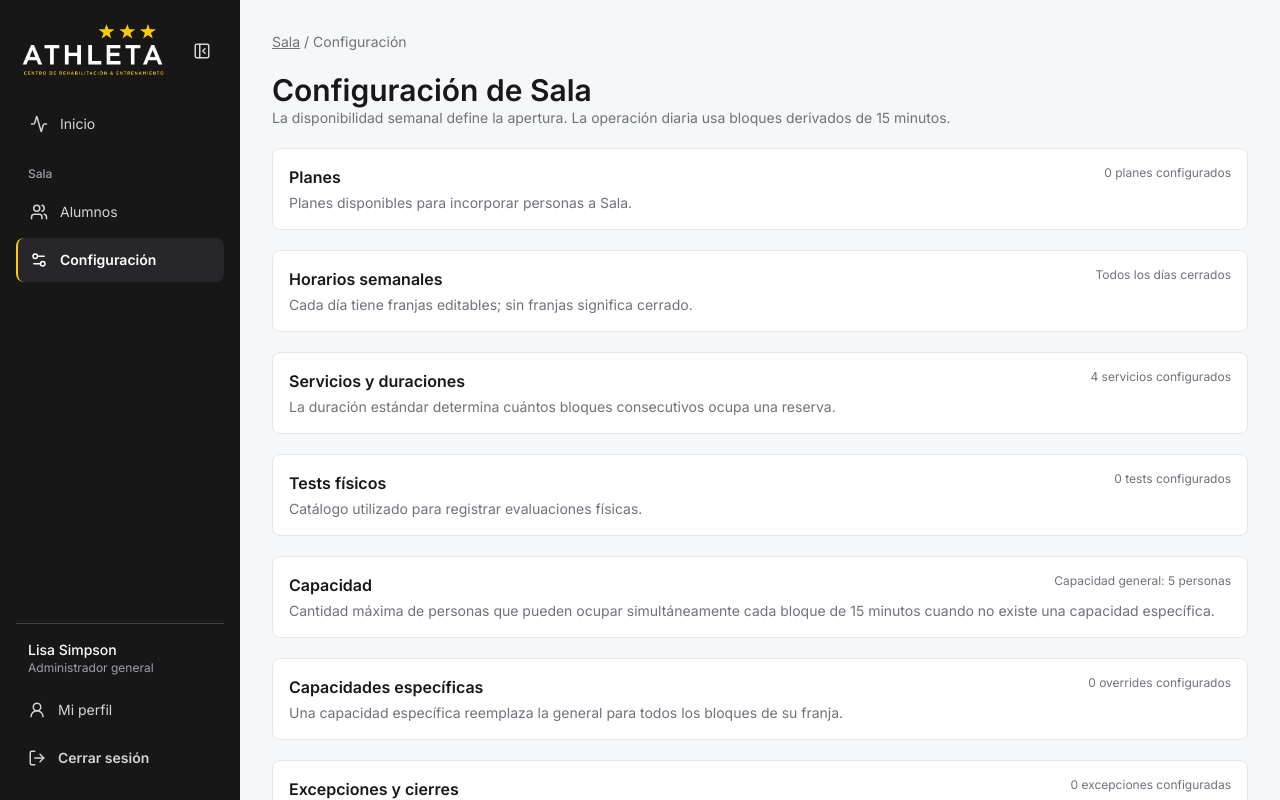
Test case: shows the effective capacity returned by the backend
The width and height of the screenshot is (1280, 800).
Click the heading "Capacidad": (330, 585) [289, 573, 372, 597]
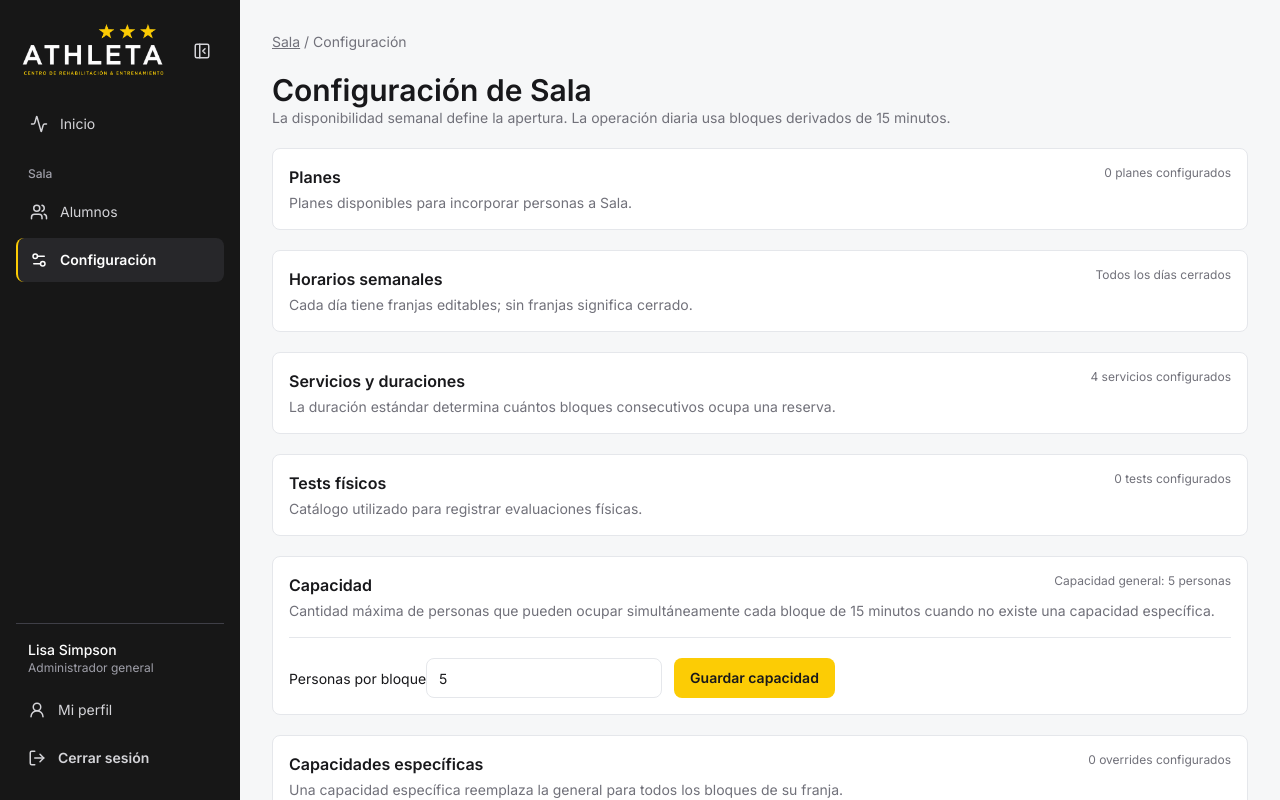
expect the text "Capacidad general: 5 personas" is shown: met, box [1054, 573, 1231, 597]
expect the number field named "Capacidad general" holds "5": met, box [426, 658, 662, 698]
